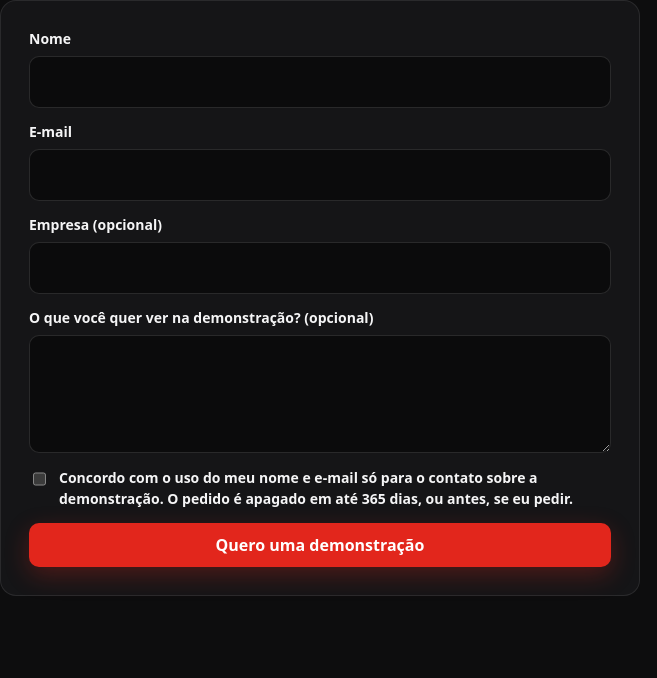
it: FormularioDeDemonstracao › o 429 do limite por IP vira uma mensagem para tentar depois
In the field labelled "Nome": (320, 82) [29,56,611,108], type "Ana Souza"
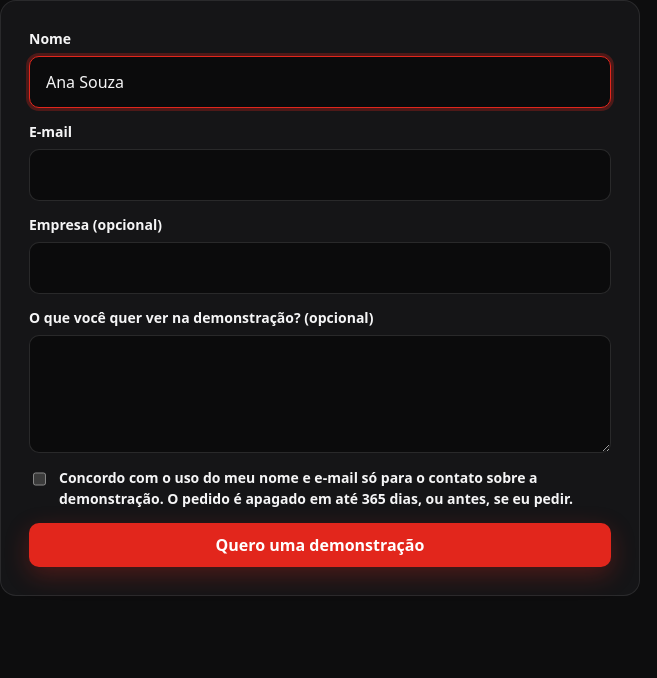
In the field labelled "E-mail": (320, 175) [29,149,611,201], type "ana@empresa.com.br"
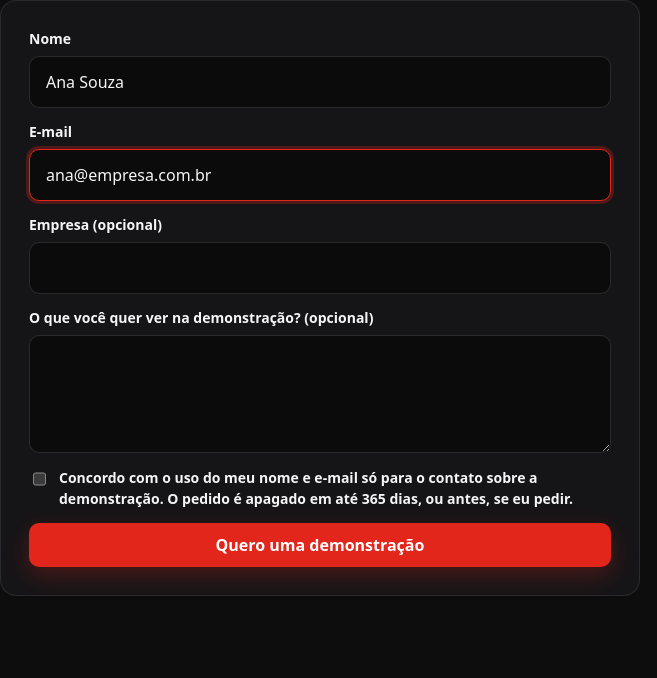
In the field labelled "Empresa (opcional)": (320, 268) [29,242,611,294], type "Empresa X"
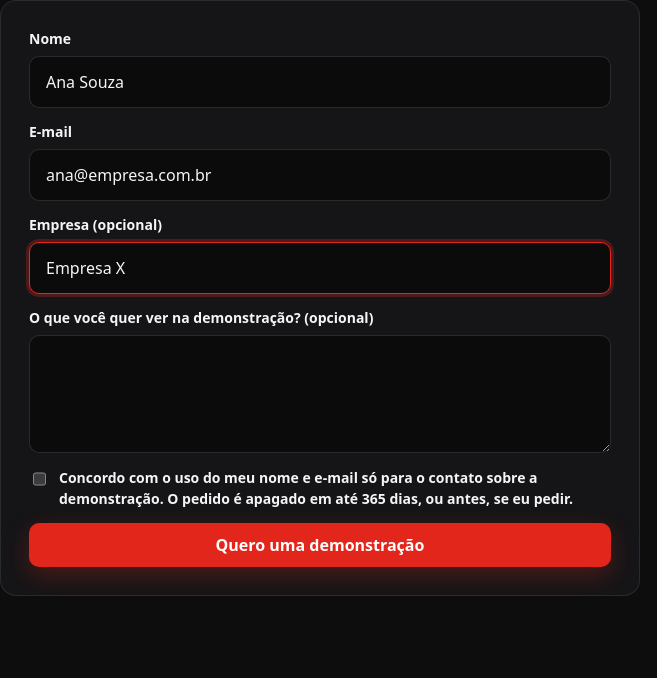
Click the checkbox: (40, 479) [33,470,46,488]
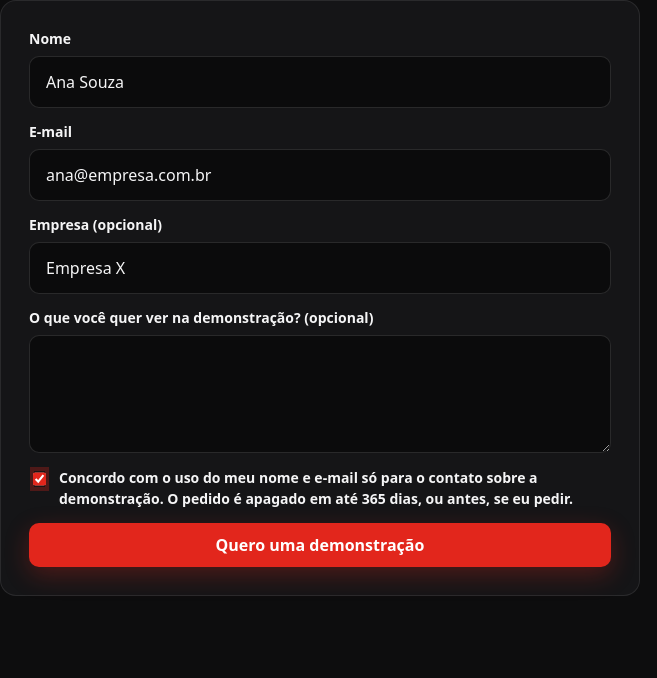
Click the button "Quero uma demonstração": (320, 545) [29,523,611,567]
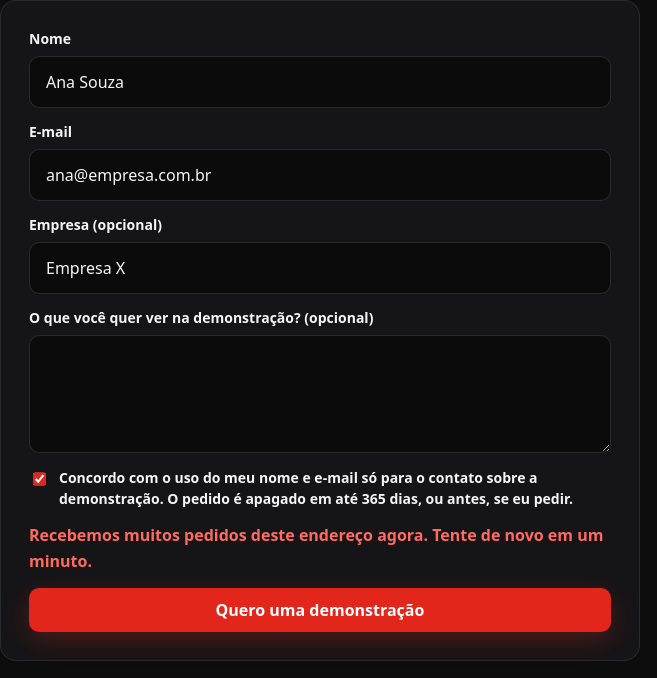
Expected: the button "Quero uma demonstração" is enabled, [29,588,611,632]
Expected: the message shows "Tente de novo em um minuto", [29,524,603,572]
